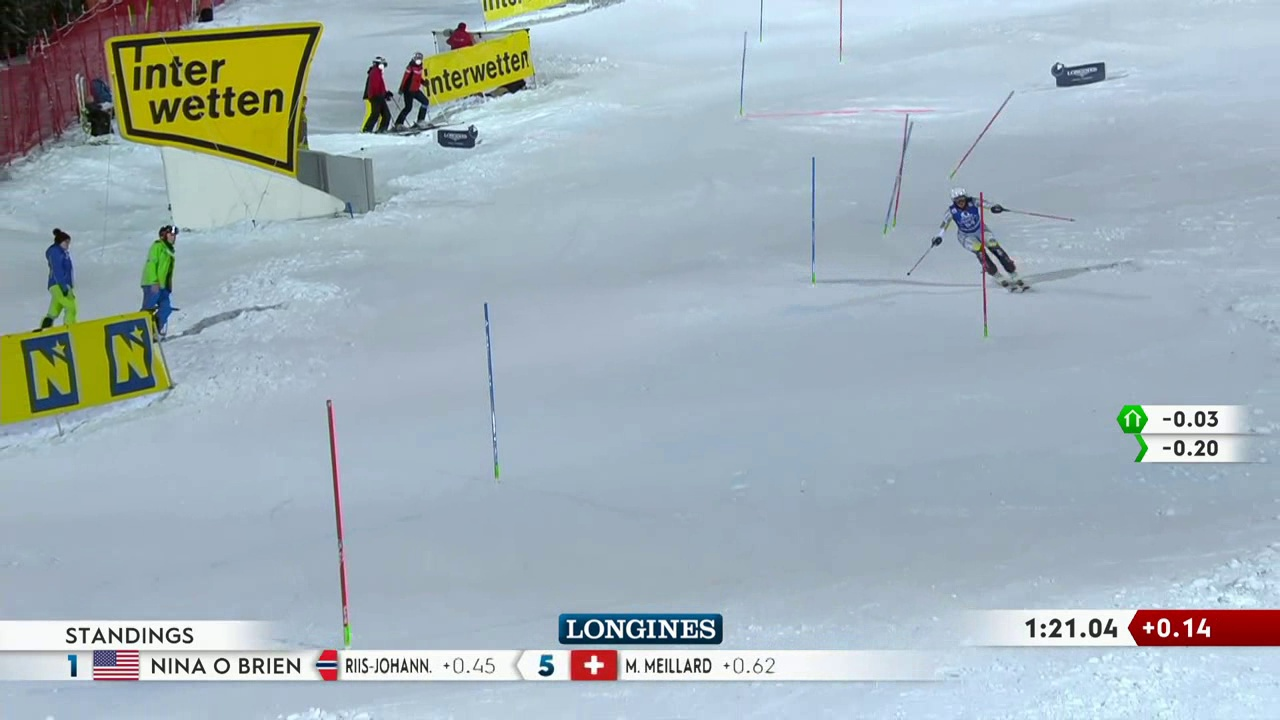interwetten: (108, 31, 303, 160)
longines: (555, 611, 734, 647)
raiffeisen: (10, 315, 148, 423), (421, 31, 530, 105)
